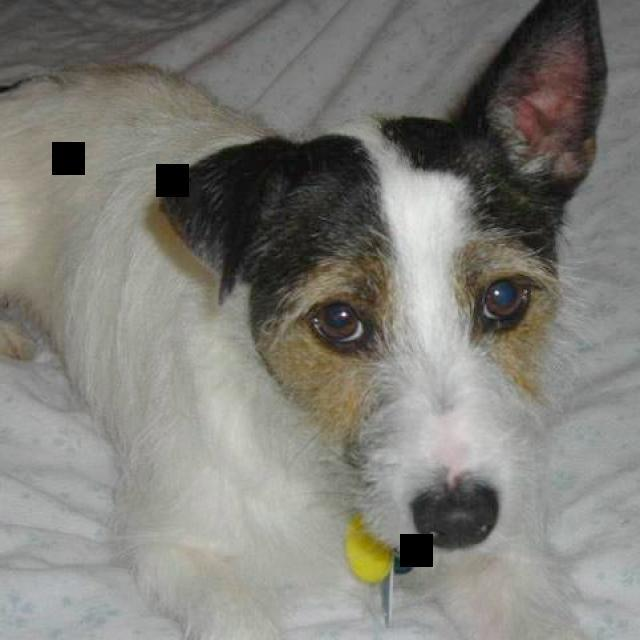adult_dog: (0, 2, 609, 633)
